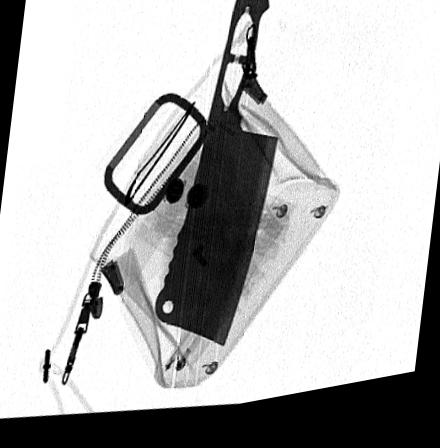Knife: (153, 0, 278, 357)
